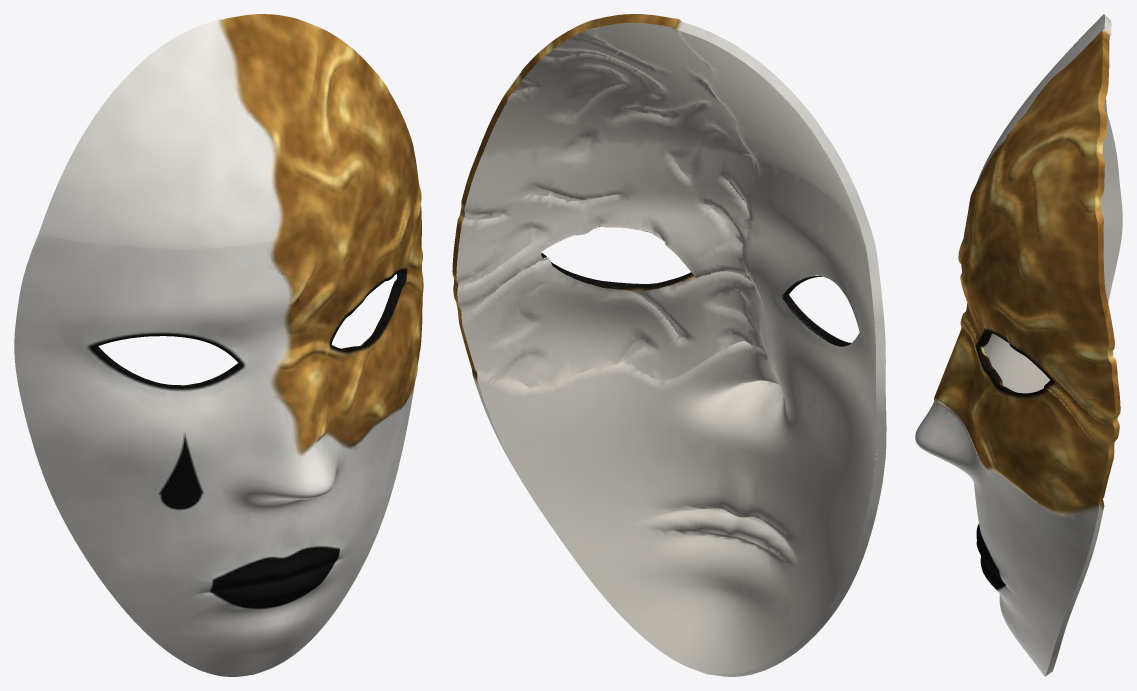
The model's file is mask_anna.glb.
The picture shows the model from 3 angles, left to right: view 1: azimuth 30°, elevation 25°; view 2: azimuth 150°, elevation 25°; view 3: azimuth 270°, elevation 25°; orthographic projection. The views are drawn at different scales.
Visible parts, largest first — view 1: Mask_Pierrot_Gold; view 2: Mask_Pierrot_Gold; view 3: Mask_Pierrot_Gold.
Part boxes in pixels (<box>): Mask_Pierrot_Gold: <box>14,14,423,676</box>; Mask_Pierrot_Gold: <box>452,14,886,676</box>; Mask_Pierrot_Gold: <box>915,14,1122,676</box>.
Bounding box in the file's own units: 0.134 × 0.2 × 0.0592.
Materials: 2 (1 with a texture image).
